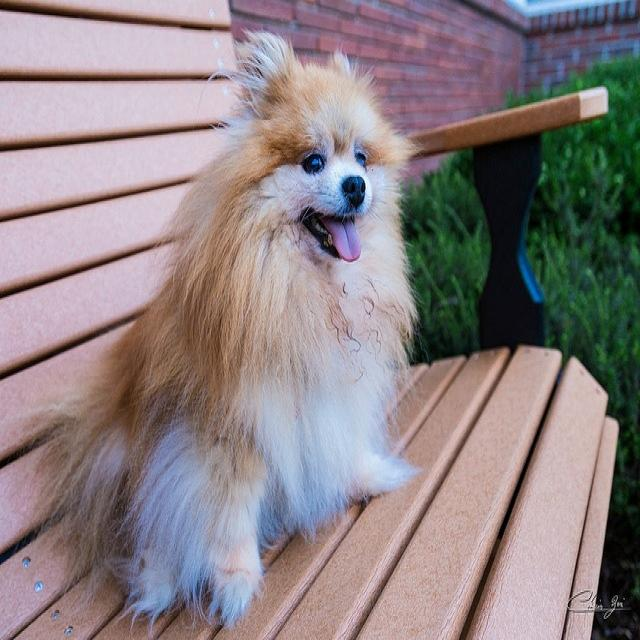dog: (42, 27, 419, 626)
